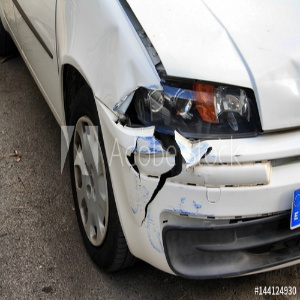bumper: (109, 172, 191, 260)
